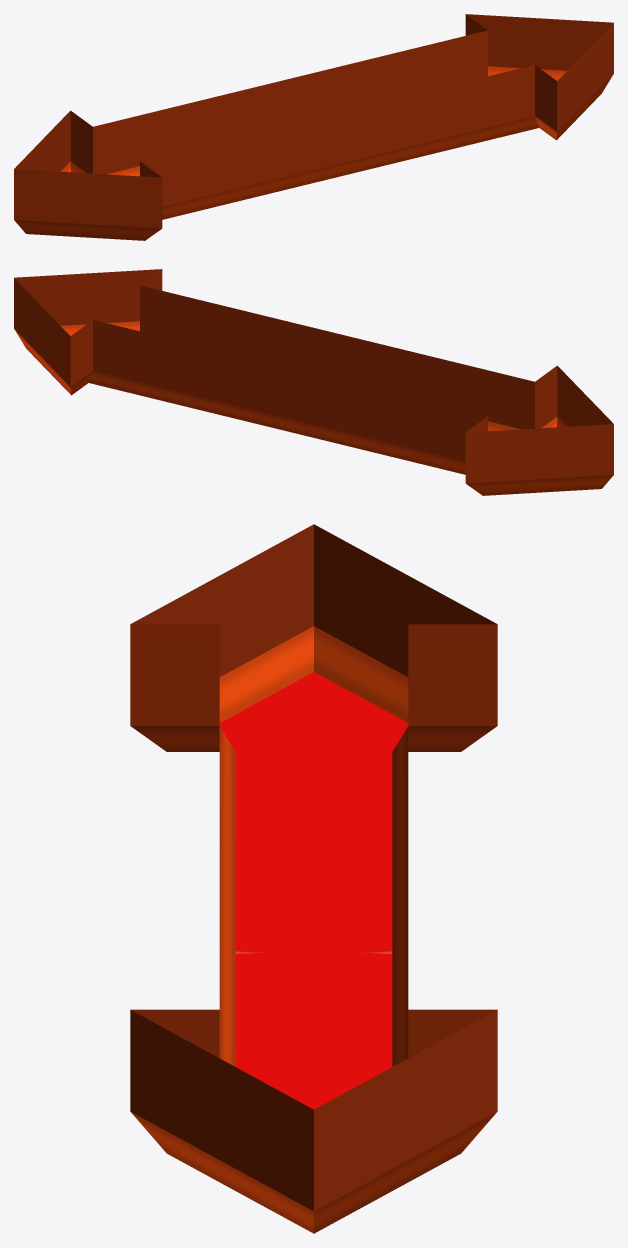
The model's file is arrow01.FBX.
3 renders of one model, top to bottom at view 1: azimuth 30°, elevation 25°; view 2: azimuth 150°, elevation 25°; view 3: azimuth 270°, elevation 25°, orthographic. The views are drawn at different scales.
Parts seen in each view (by area): view 1: Box006; view 2: Box006; view 3: Box006.
Boxes of the visible parts, x1,y1,x2,y2 form: Box006: (14,14,613,240); Box006: (14,269,613,495); Box006: (130,524,497,1233).
Bounding box in the file's own units: 928 × 100 × 246.
